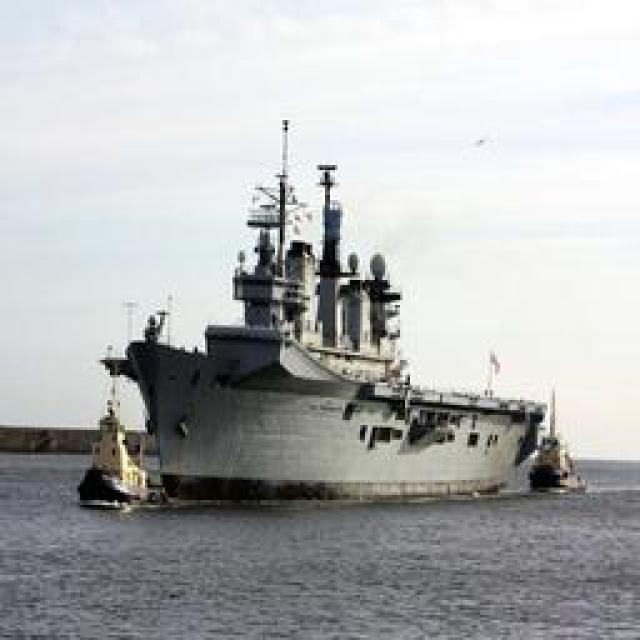Ship: (79, 81, 559, 494)
